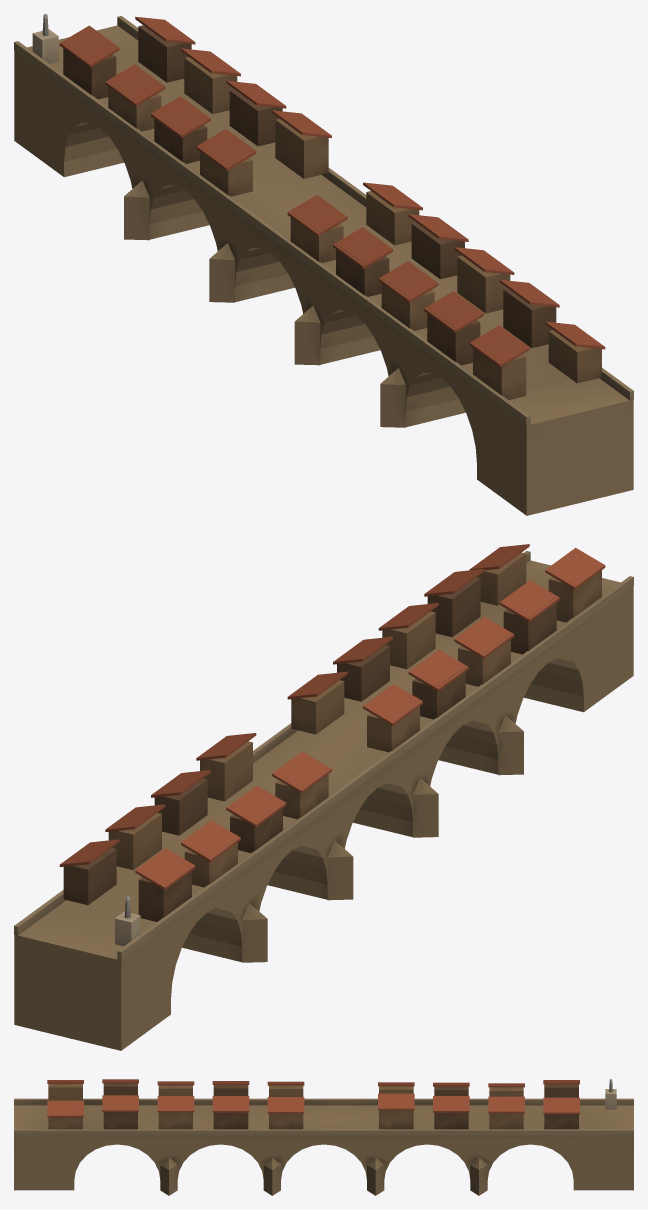
The model's file is ponte-vecchio-old.glb.
3 renders of one model, top to bottom at view 1: azimuth 30°, elevation 25°; view 2: azimuth 150°, elevation 25°; view 3: azimuth 270°, elevation 25°, orthographic. The views are drawn at different scales.
Parts seen in each view (by area): view 1: p0_bridge, p1_shops, p2_statue; view 2: p0_bridge, p1_shops, p2_statue; view 3: p0_bridge, p1_shops, p2_statue.
Part boxes in pixels (x1=…): p0_bridge: x1=14, y1=16, x2=633, y2=515; p1_shops: x1=59, y1=16, x2=605, y2=399; p2_statue: x1=32, y1=14, x2=58, y2=63; p0_bridge: x1=14, y1=551, x2=633, y2=1050; p1_shops: x1=59, y1=544, x2=605, y2=921; p2_statue: x1=115, y1=896, x2=140, y2=946; p0_bridge: x1=14, y1=1098, x2=633, y2=1195; p1_shops: x1=47, y1=1079, x2=579, y2=1129; p2_statue: x1=605, y1=1079, x2=616, y2=1109.
Bounding box in the file's own units: 17.5 × 16.85 × 108.
